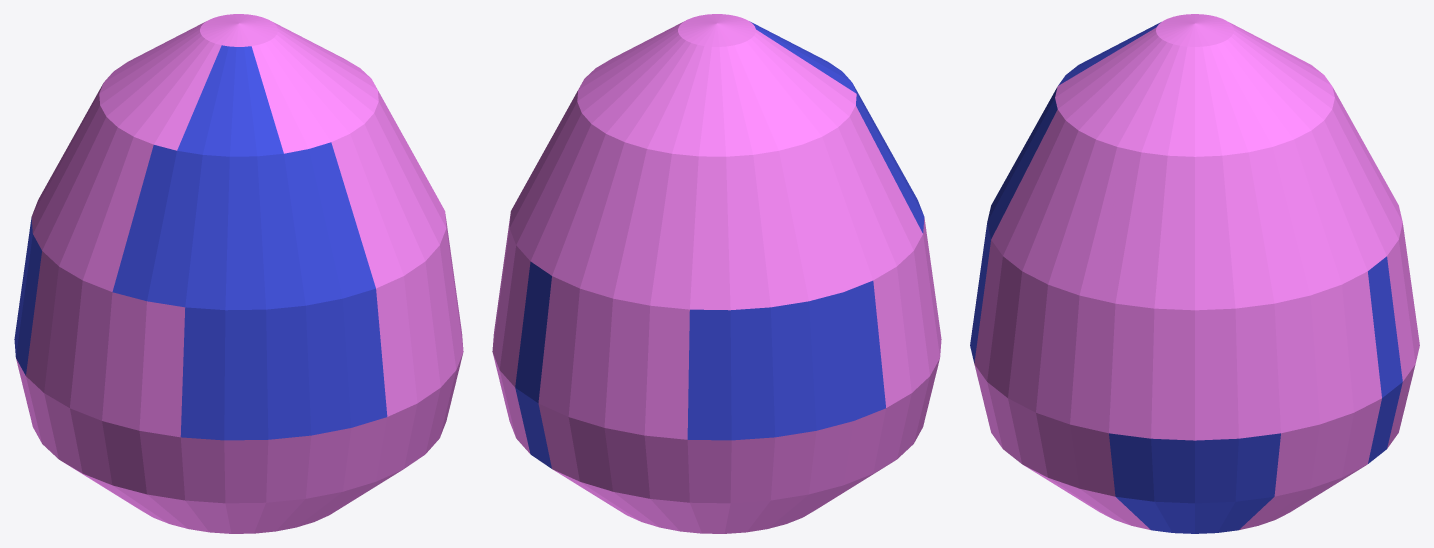
File: EasterEgg.fbx
3 renders of one model, left to right at view 1: azimuth 30°, elevation 25°; view 2: azimuth 150°, elevation 25°; view 3: azimuth 270°, elevation 25°, orthographic.
Visible parts, largest first — view 1: Easter Egg; view 2: Easter Egg; view 3: Easter Egg.
Part boxes in pixels (x1,y1,x2,y2): Easter Egg: (14,14,463,533); Easter Egg: (492,14,941,533); Easter Egg: (970,14,1419,533).
Size of the model in its own units: 216 by 251 by 216.
